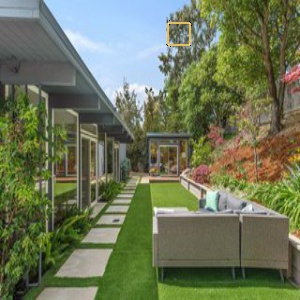square: (165, 19, 193, 49)
